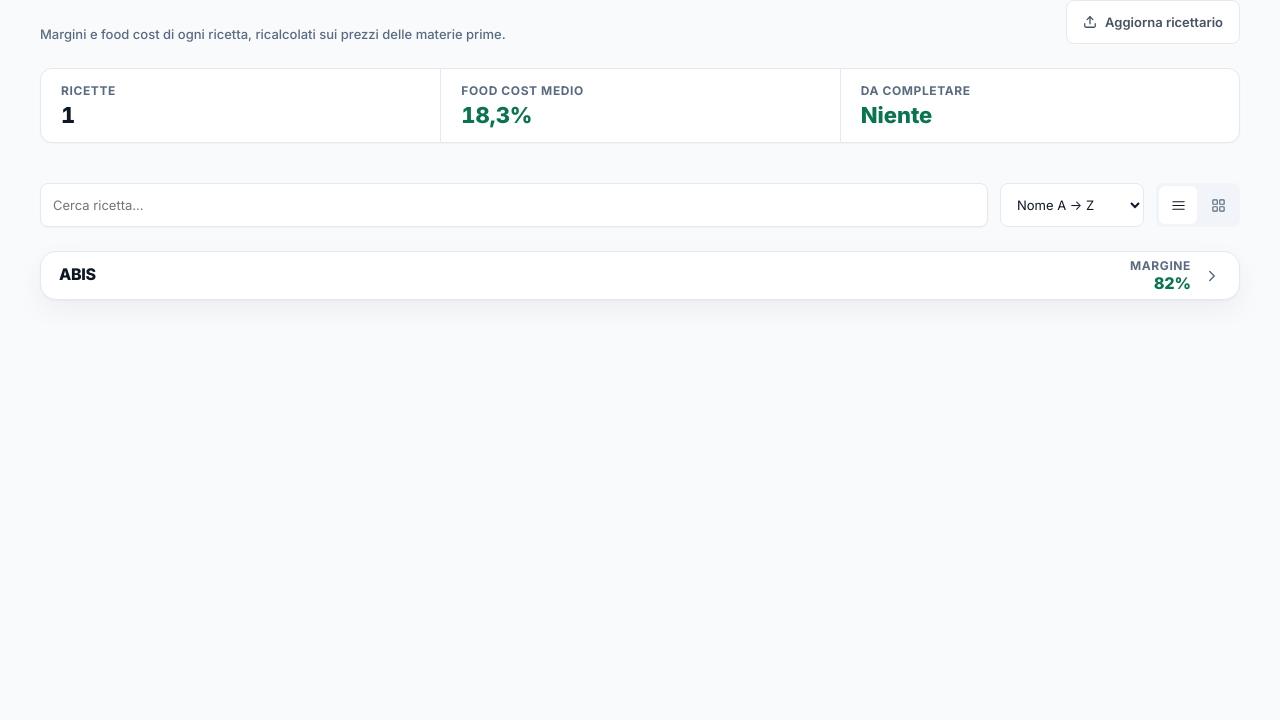
Scenario: Ricettario — pulizia › i grammi hanno la virgola italiana, non il punto
The image size is (1280, 720).
What coordinates should you click on to do the following:
click the text "ABIS"
I would click on:
 (77, 274)
Its box is [59,264,96,284].
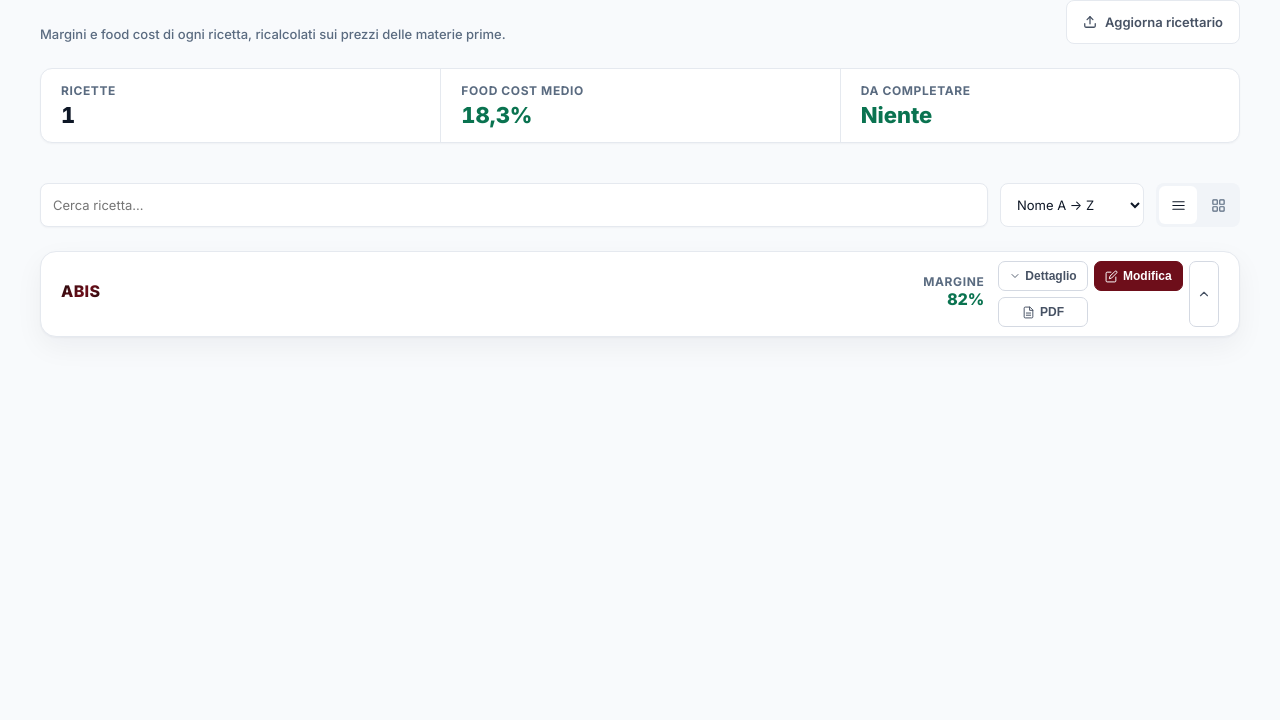
What coordinates should you click on to do the following:
click the button "Dettaglio"
I would click on:
 (1043, 276)
Its box is [998,261,1088,291].
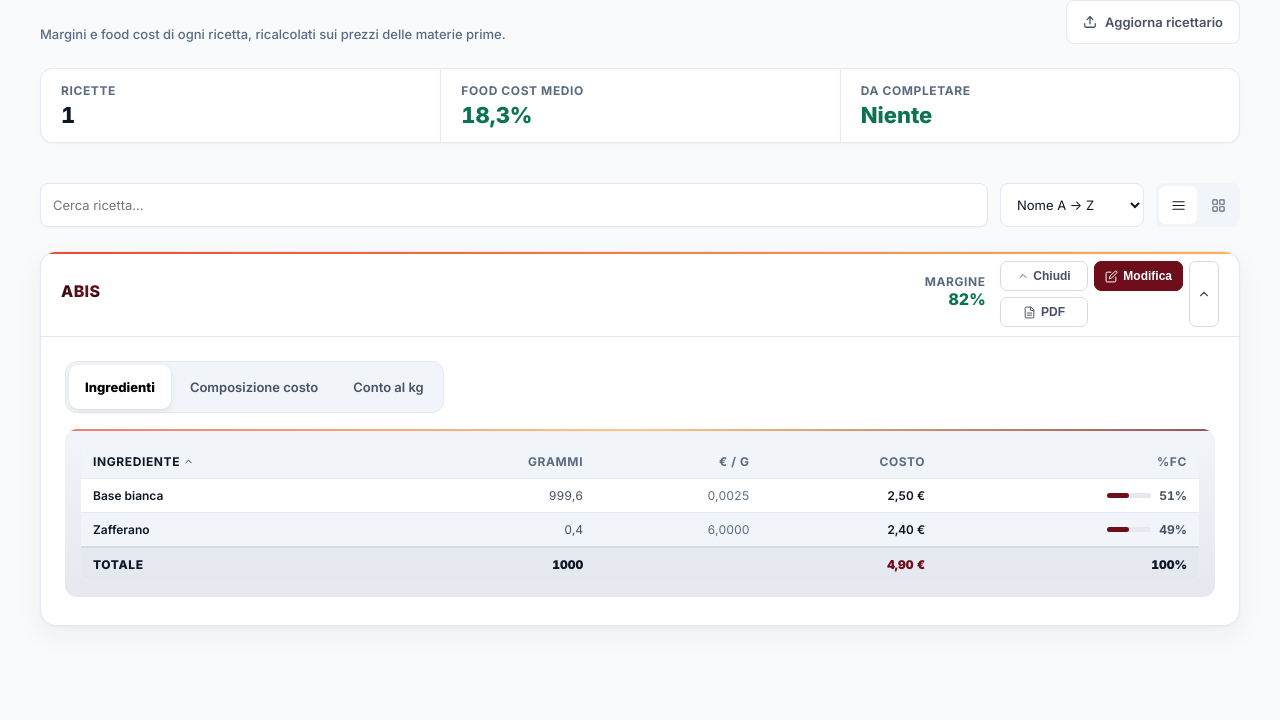
Expected: the text "0,4" is shown, [396,513,595,547]
Expected: the text "999,6" is shown, [396,479,595,513]
